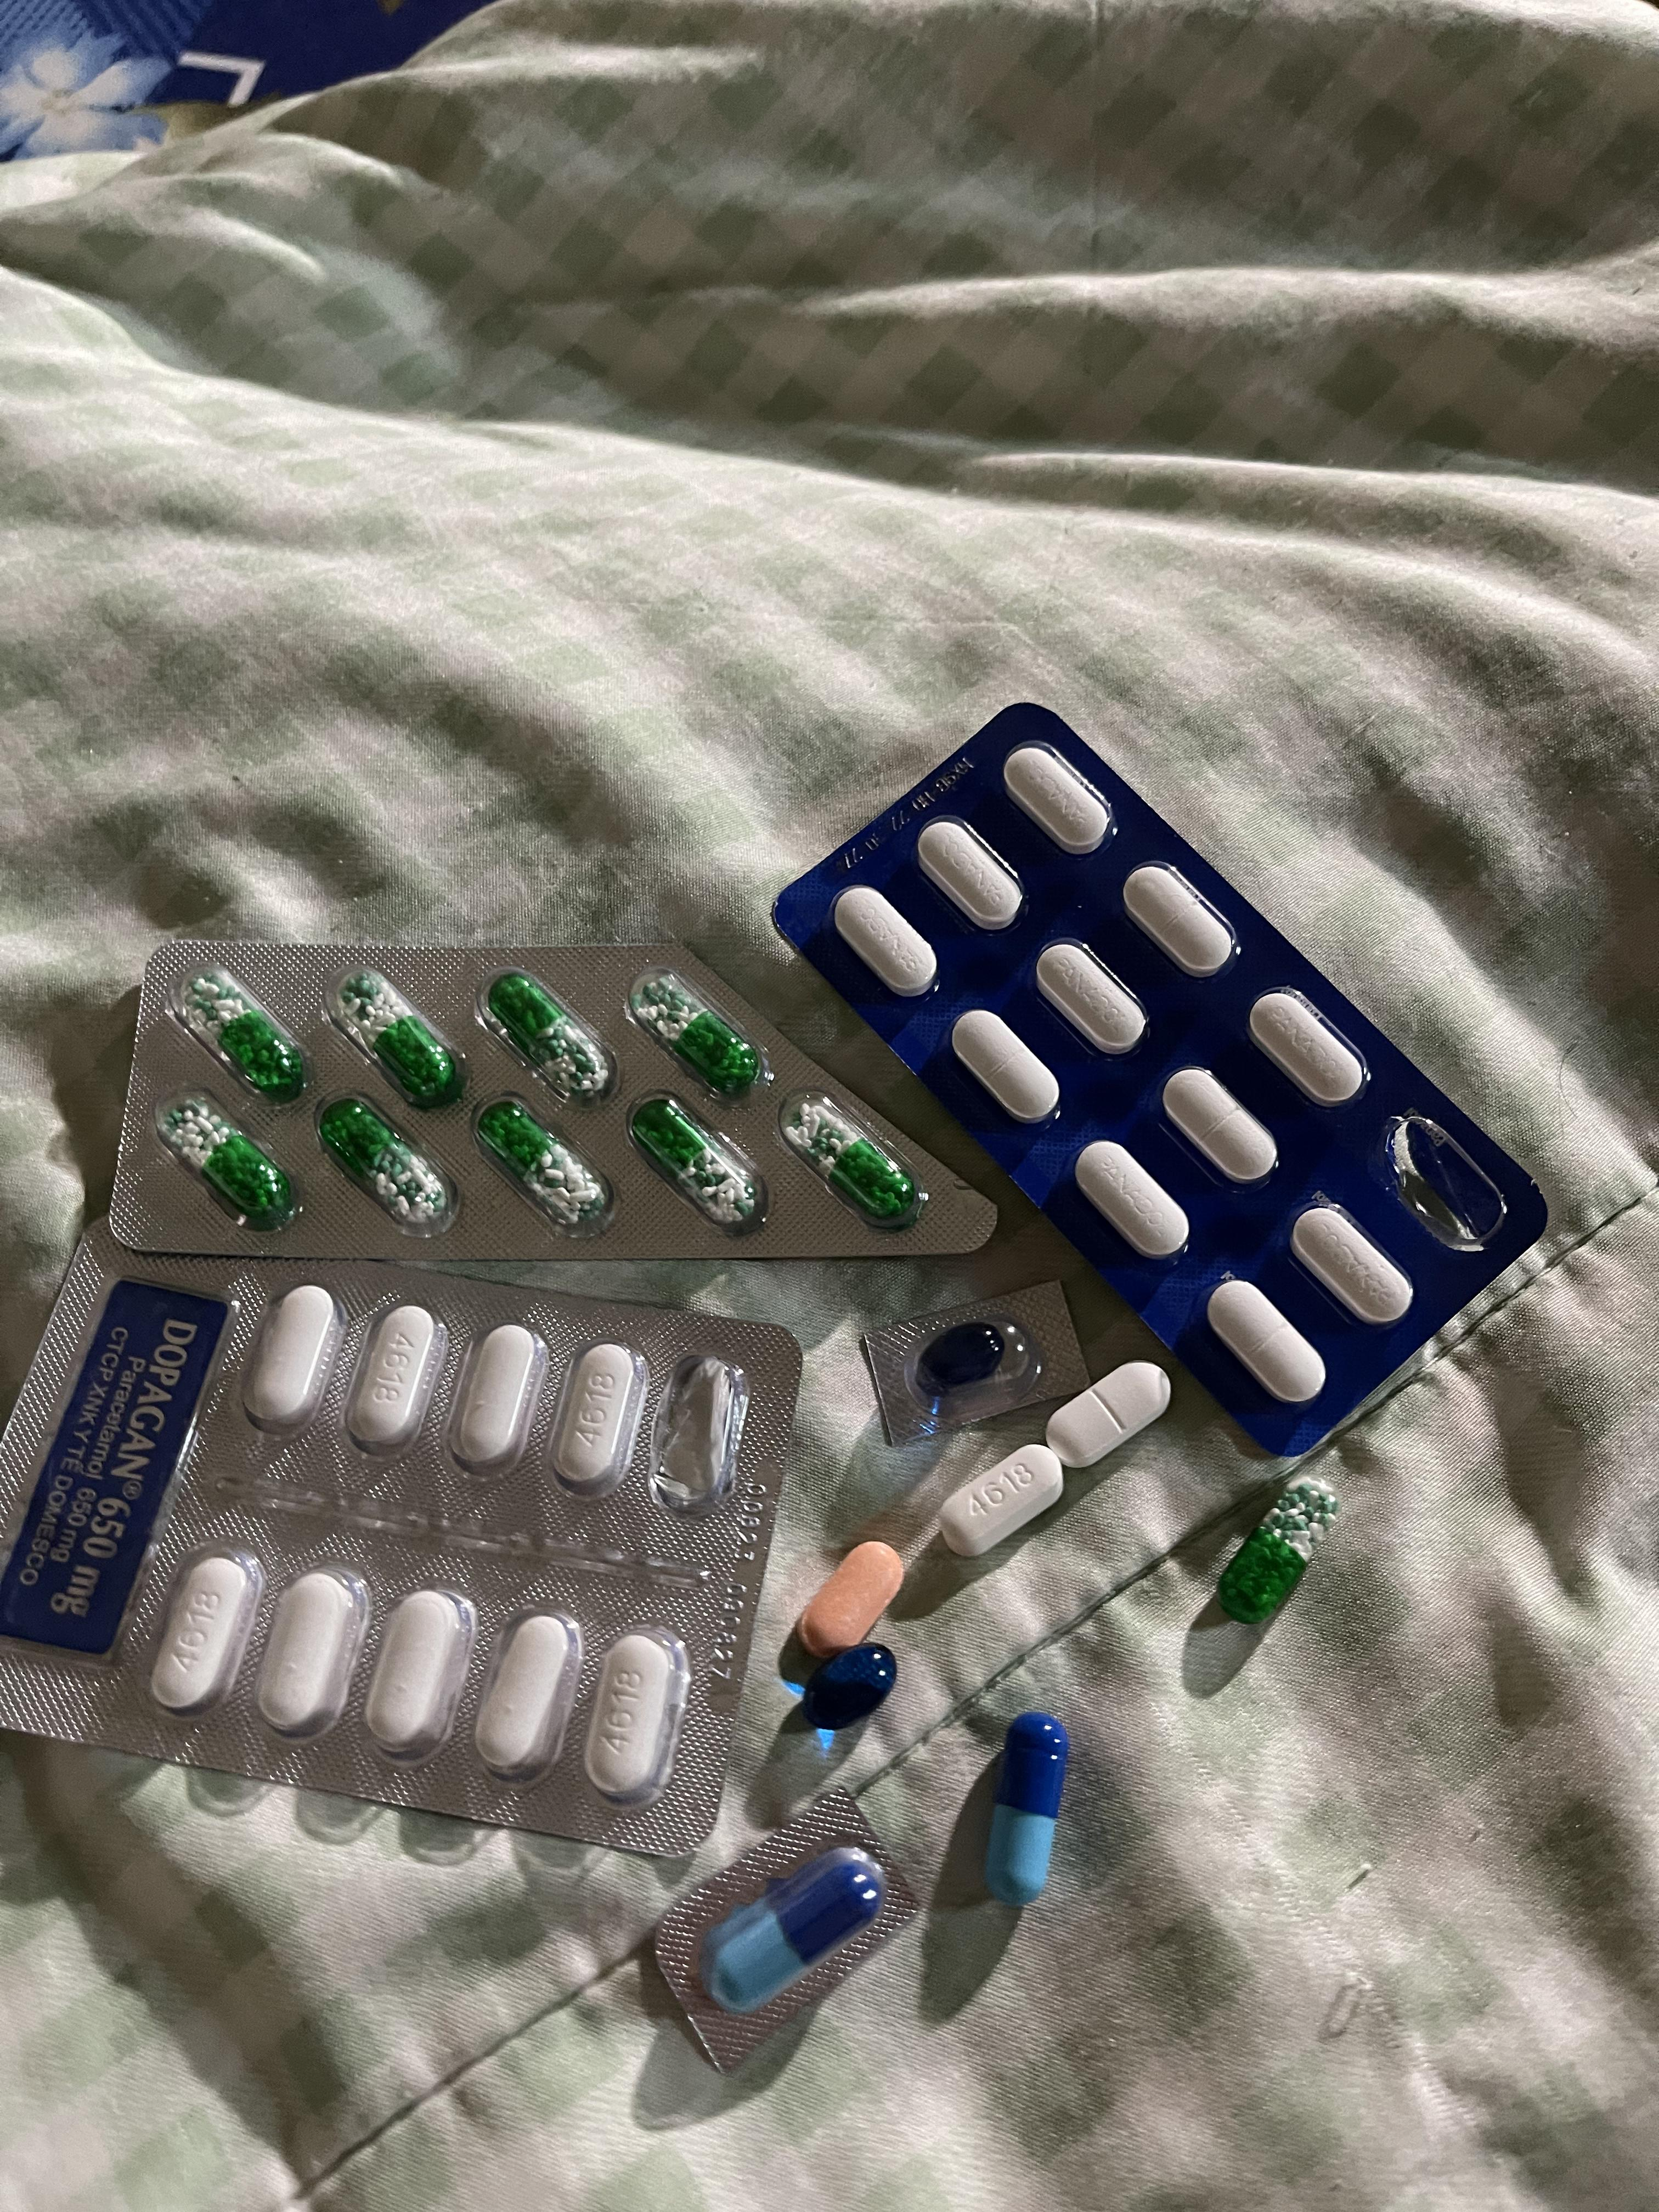Lincomyxin_500mg: (918, 1322, 1009, 1392)
Loratadine_10mg: (802, 1543, 904, 1658)
Paracetamol_350mg: (1291, 1204, 1413, 1327), (1206, 1278, 1328, 1402), (1249, 989, 1370, 1108), (1162, 1066, 1277, 1184), (1075, 1143, 1187, 1259), (1124, 864, 1236, 977), (1037, 941, 1147, 1055), (1006, 744, 1115, 857), (951, 1008, 1058, 1125), (1049, 1360, 1168, 1465), (917, 817, 1023, 930), (835, 887, 938, 996)
Paracetamol_500mg: (362, 1587, 477, 1764), (254, 1564, 369, 1738), (582, 1625, 692, 1806), (474, 1609, 584, 1784), (152, 1545, 267, 1710), (343, 1301, 446, 1453), (547, 1341, 645, 1496), (451, 1322, 549, 1474), (246, 1285, 342, 1432), (938, 1442, 1061, 1555)
Paracetamol_650mg: (474, 1092, 615, 1237), (631, 1092, 762, 1237), (1218, 1474, 1340, 1620), (321, 1099, 450, 1223), (166, 1097, 291, 1223), (336, 975, 458, 1099), (788, 1097, 913, 1217), (490, 974, 610, 1097), (181, 972, 301, 1092), (634, 975, 756, 1092)
pill: (713, 1848, 880, 2013), (986, 1712, 1068, 1905)
